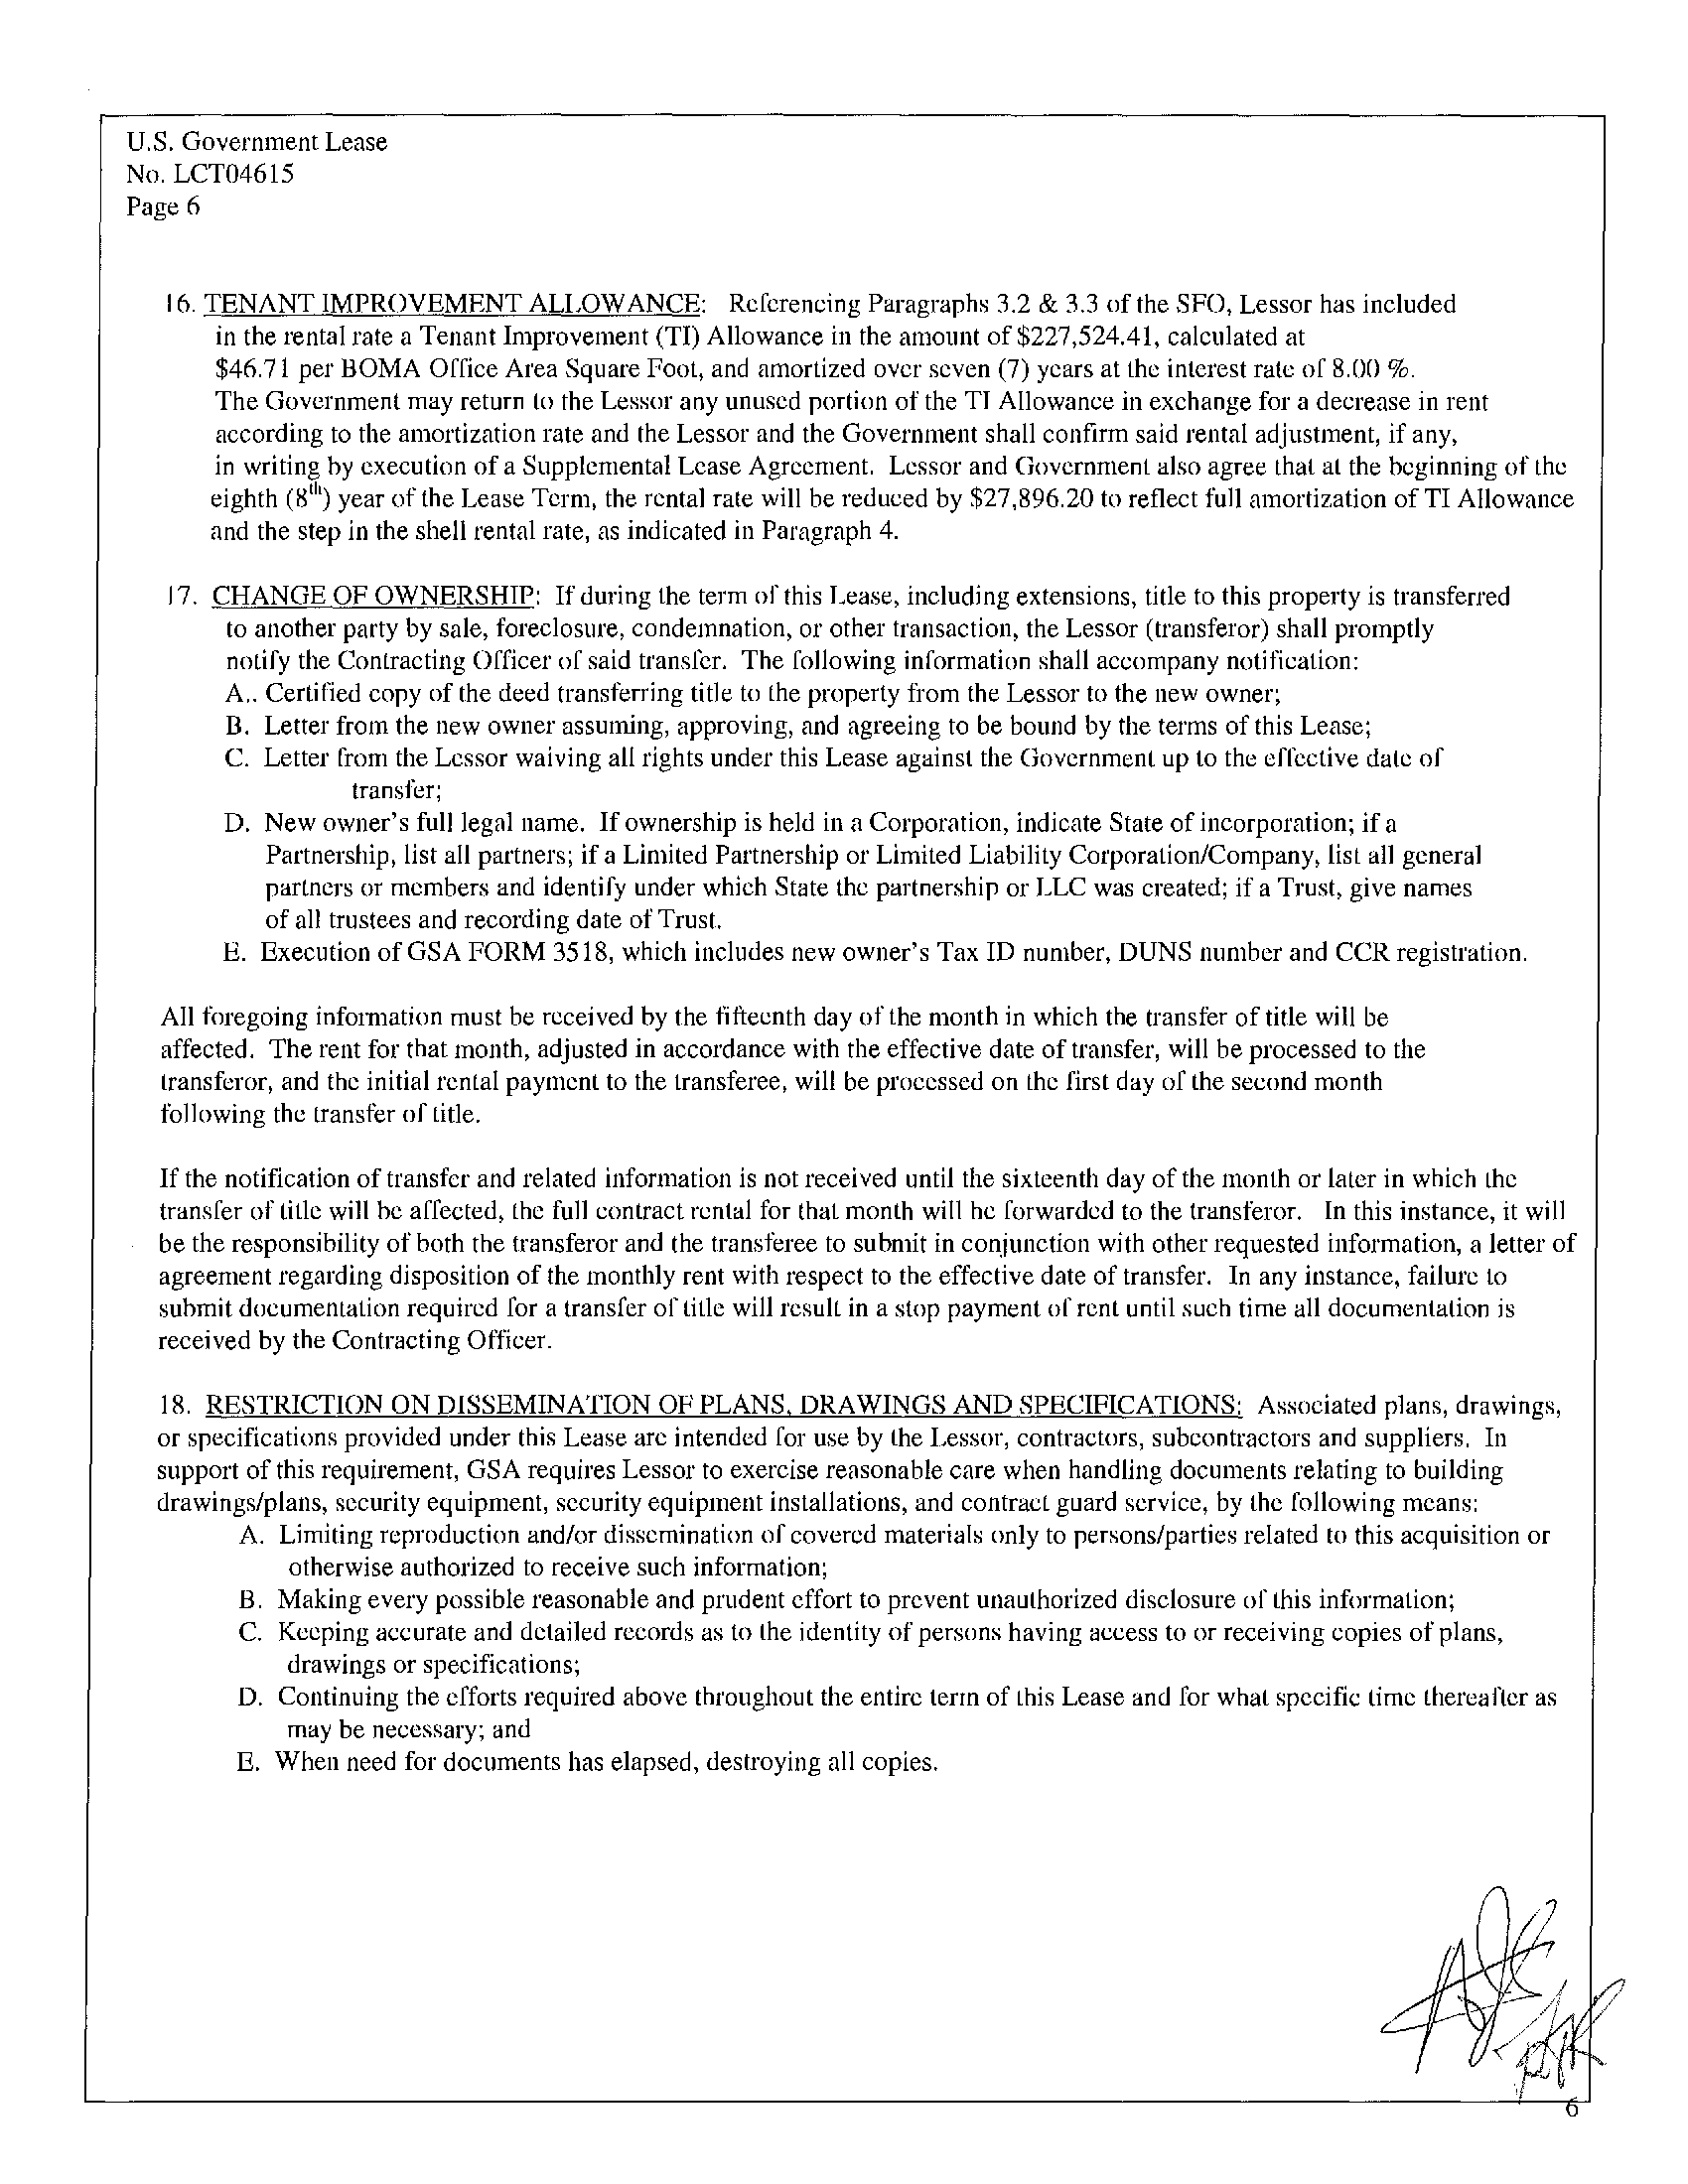handwritten: (1374, 1865, 1622, 2131)
